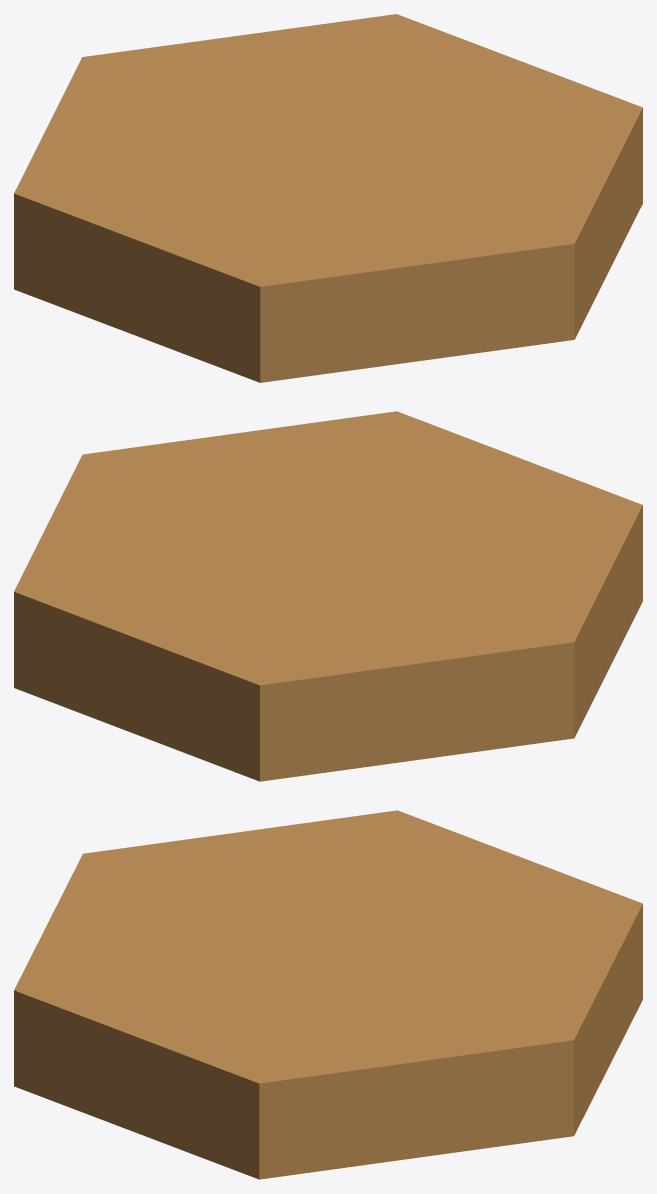
Rendered from Prop_Coin_01.glb.
The picture shows the model from 3 angles, top to bottom: view 1: azimuth 30°, elevation 25°; view 2: azimuth 150°, elevation 25°; view 3: azimuth 270°, elevation 25°; orthographic projection.
Visible parts, largest first — view 1: SM_Gen_Prop_Coin_01; view 2: SM_Gen_Prop_Coin_01; view 3: SM_Gen_Prop_Coin_01.
Part boxes in pixels (x1,y1,x2,y2): SM_Gen_Prop_Coin_01: (14,14,642,382); SM_Gen_Prop_Coin_01: (14,411,642,781); SM_Gen_Prop_Coin_01: (14,810,642,1179).
Bounding box in the file's own units: 0.1208 × 0.0198 × 0.1175.
1 material, 1 textured.
